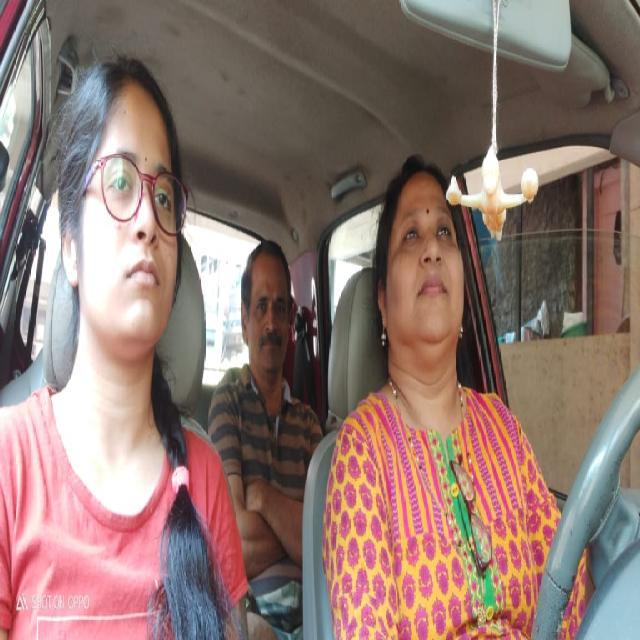person: (55, 49, 192, 370), (370, 154, 466, 373), (238, 237, 294, 380)
